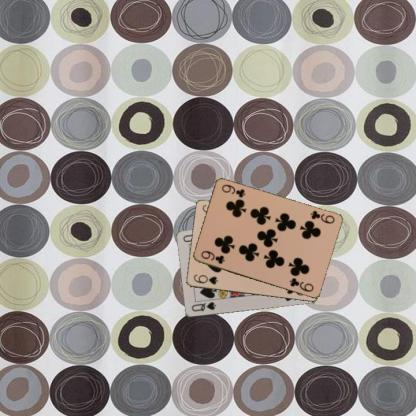6s: (191, 272, 219, 286)
9c: (307, 208, 336, 225), (198, 248, 226, 265)
Qs: (189, 299, 217, 313)
